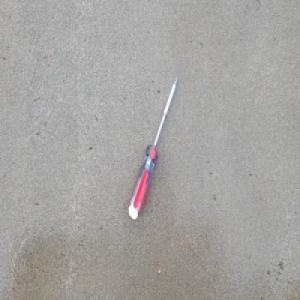Screwdriver: (127, 73, 179, 221)
